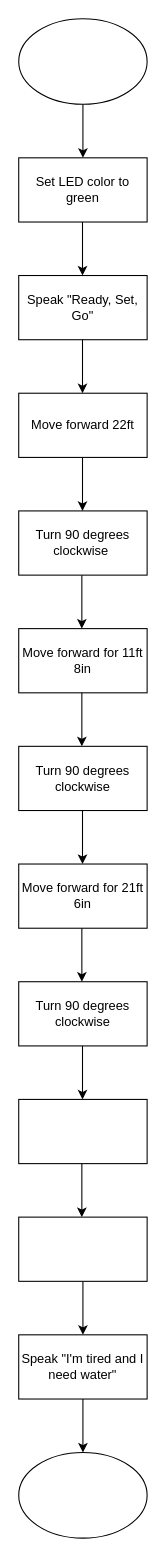
Image size: 166x1557. Some labels were removed from this diagram. Each missing label, with the box of its shape:
End: (18, 1451, 147, 1538)
Move forward 11ft 10in: (18, 1098, 147, 1164)
Set LED color to red: (18, 1216, 147, 1281)
Start: (18, 18, 147, 104)
